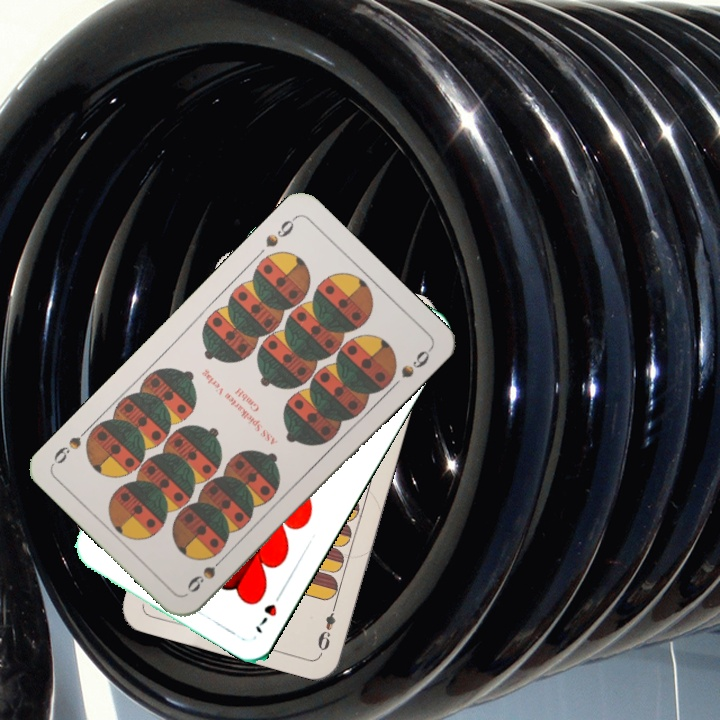E9: (313, 598, 340, 656)
H7: (251, 584, 287, 636)
S9: (183, 550, 229, 596), (261, 213, 299, 250)
